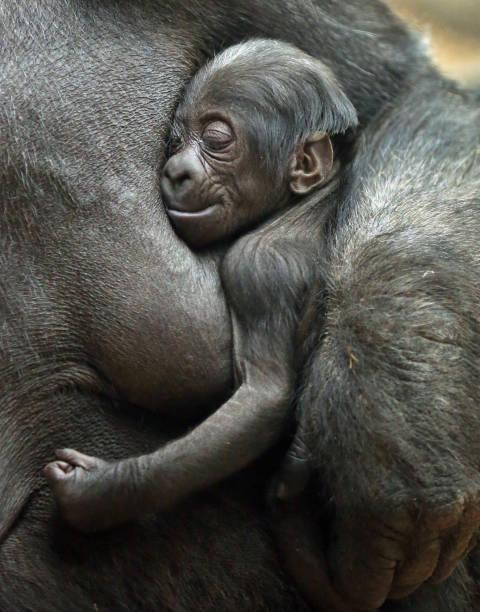gorille_Autres: (0, 0, 480, 610)
